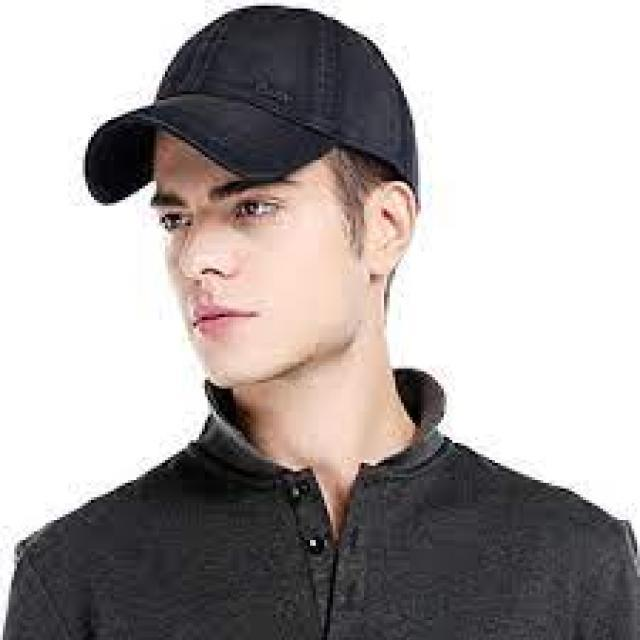cap: (44, 2, 442, 242)
